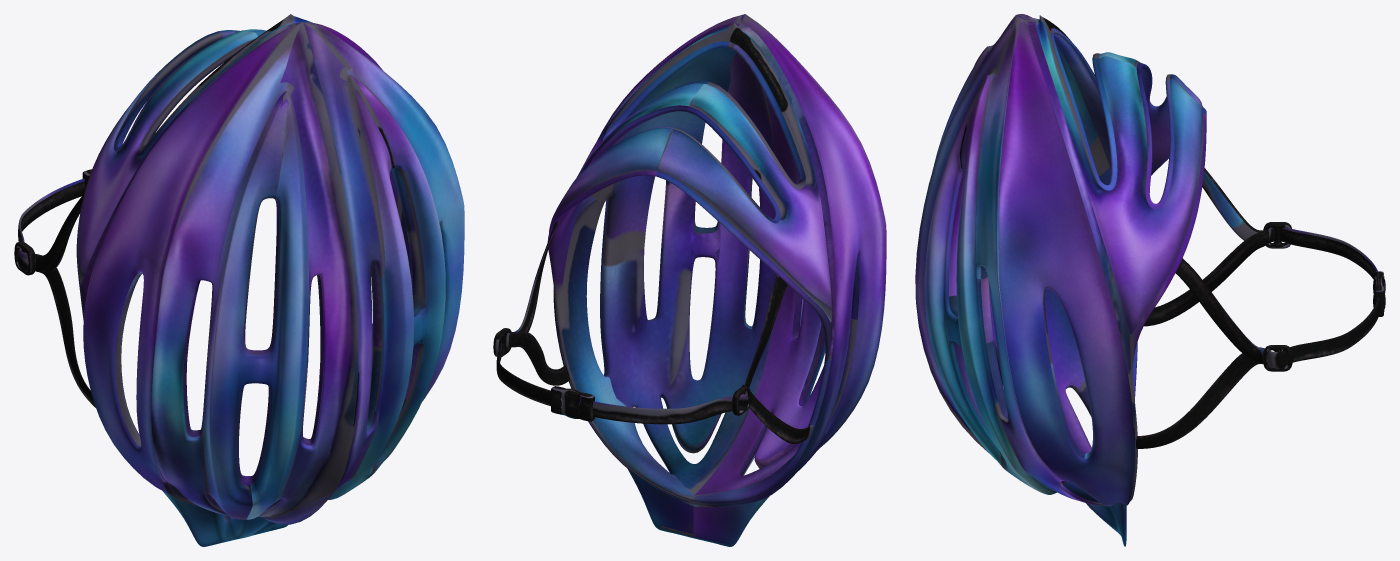
File: sport_cycling_helmet_main.obj
3 renders of one model, left to right at view 1: azimuth 30°, elevation 25°; view 2: azimuth 150°, elevation 25°; view 3: azimuth 270°, elevation 25°, orthographic. The views are drawn at different scales.
Visible parts, largest first — view 1: helmet_body; view 2: helmet_body; view 3: helmet_body.
Part boxes in pixels (left/top/right/bottom): helmet_body: left=14, top=14, right=464, bottom=546; helmet_body: left=493, top=14, right=886, bottom=546; helmet_body: left=915, top=14, right=1385, bottom=546.
Size of the model in its own units: 17.78 by 29.16 by 24.16.
1 material, 1 textured.
